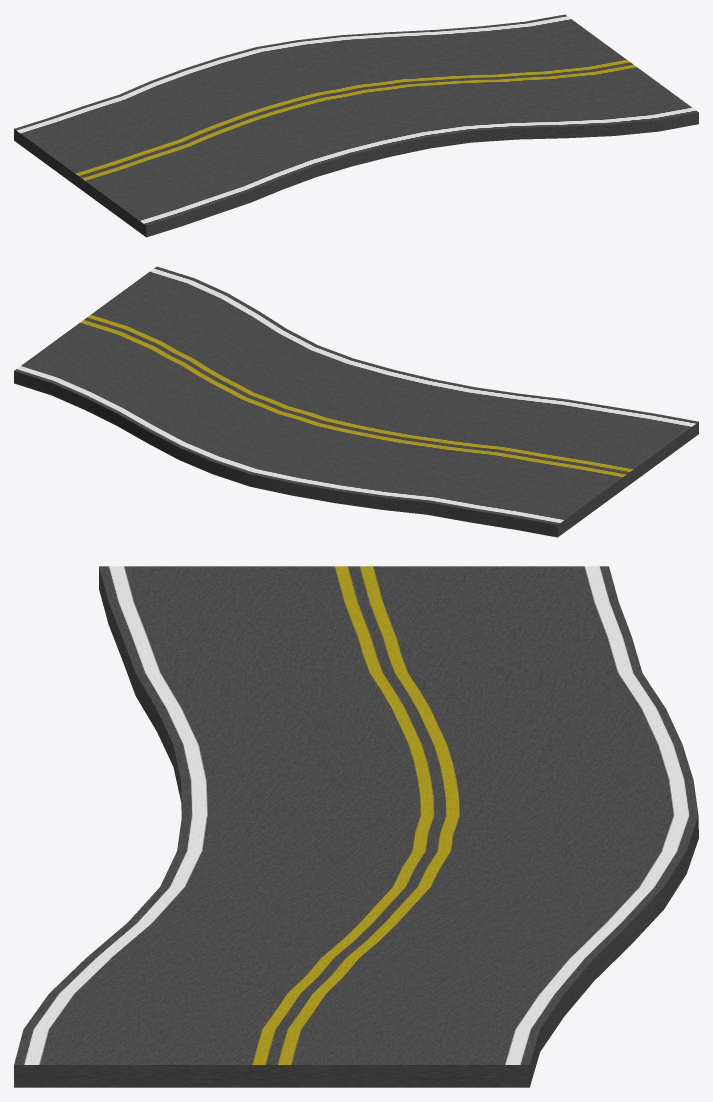
Rendered from wave_track.fbx.
3 renders of one model, top to bottom at view 1: azimuth 30°, elevation 25°; view 2: azimuth 150°, elevation 25°; view 3: azimuth 270°, elevation 25°, orthographic. The views are drawn at different scales.
Visible parts, largest first — view 1: pCube1; view 2: pCube1; view 3: pCube1.
Part boxes in pixels (x1,y1,x2,y2): pCube1: (14,14,698,237); pCube1: (14,266,698,537); pCube1: (14,566,698,1087).
Bounding box in the file's own units: 1244 × 26.26 × 722.
1 material, 1 textured.
